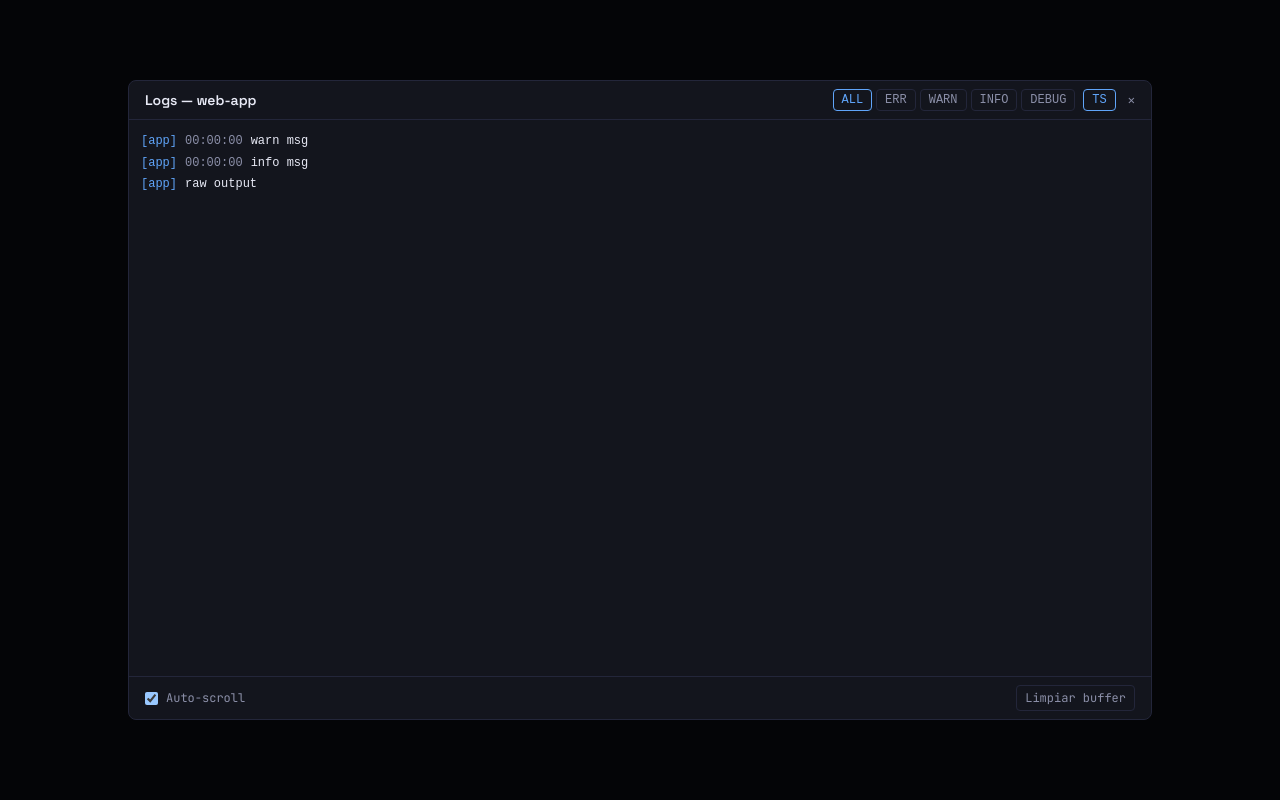
Test: LogsModal — filtros de nivel › filtro WARN muestra nivel >= 40 y líneas no-JSON
This screenshot has width=1280, height=800.
Click the button with aria-label "Filtro WARN": click(943, 100) top-left (920, 89), bottom-right (966, 111)
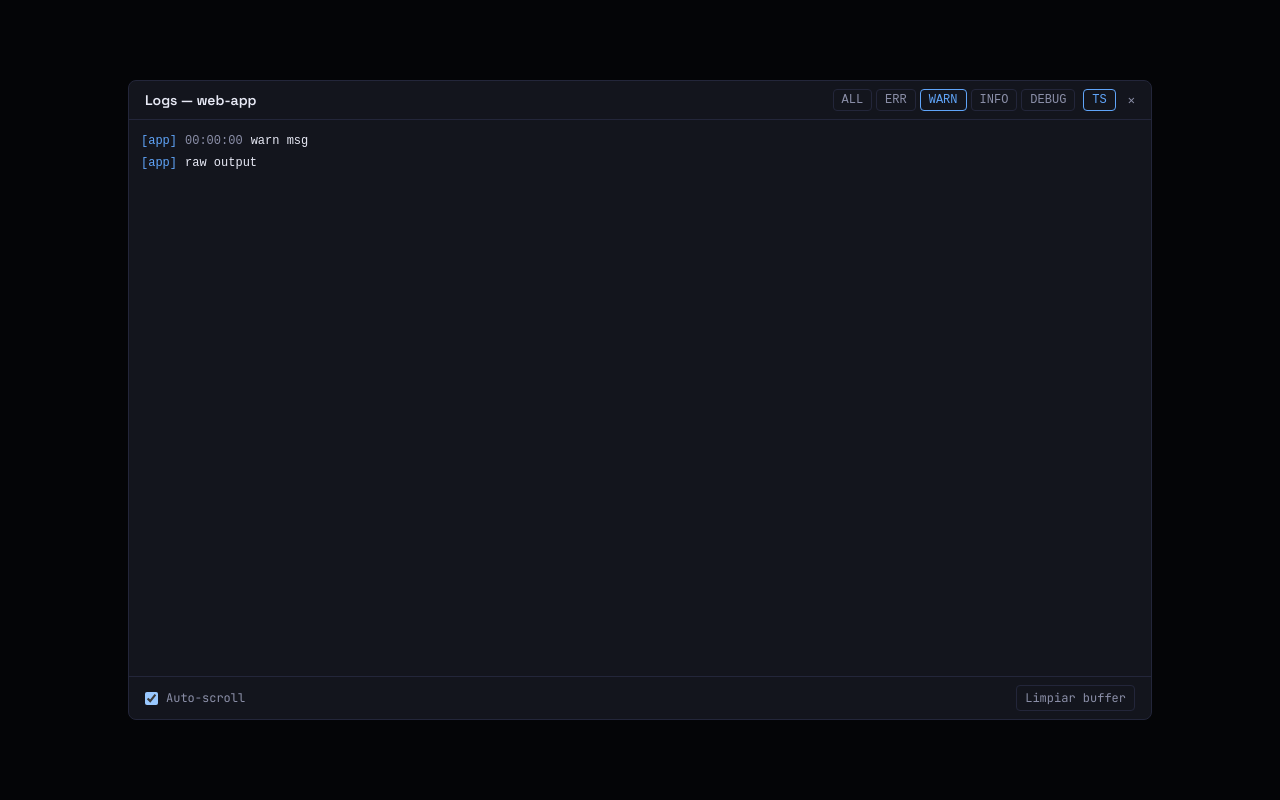
Expected: the text "warn msg" is shown, top-left (251, 134), bottom-right (308, 148)
Now the text "info msg" is gone
Now the text "[app]raw output" is shown, box top-left (141, 156), bottom-right (257, 170)
